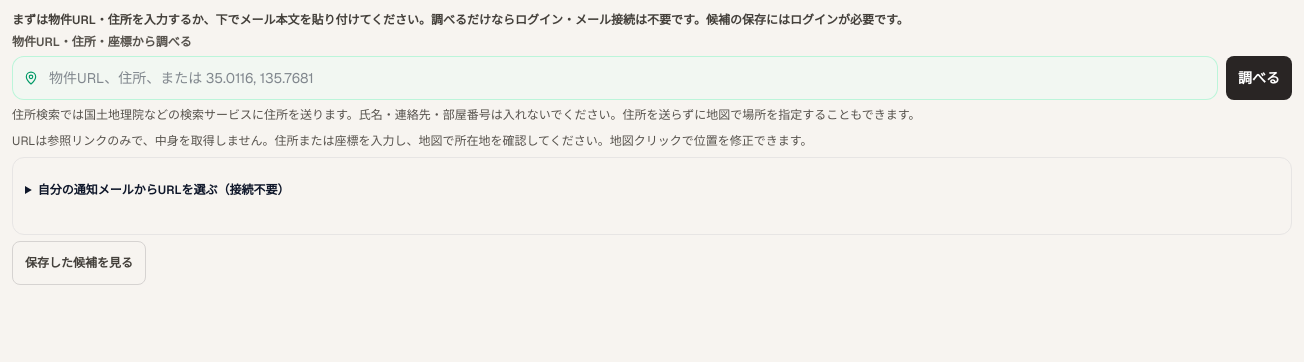
listing candidate flow › portal paste makes zero requests; asks for location and never persists draft
This screenshot has width=1304, height=362.
In the field labelled "物件URL・住所・座標から調べる": (615, 78) [12, 56, 1218, 100], type "https://suumo.jp/chintai/123/?utm_source=test"
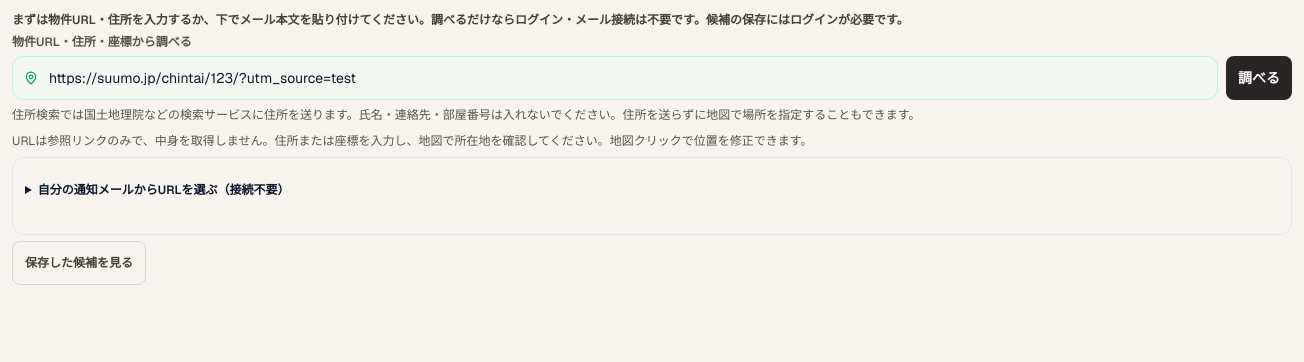
Click the button "調べる": click(1259, 78) [1226, 56, 1292, 100]
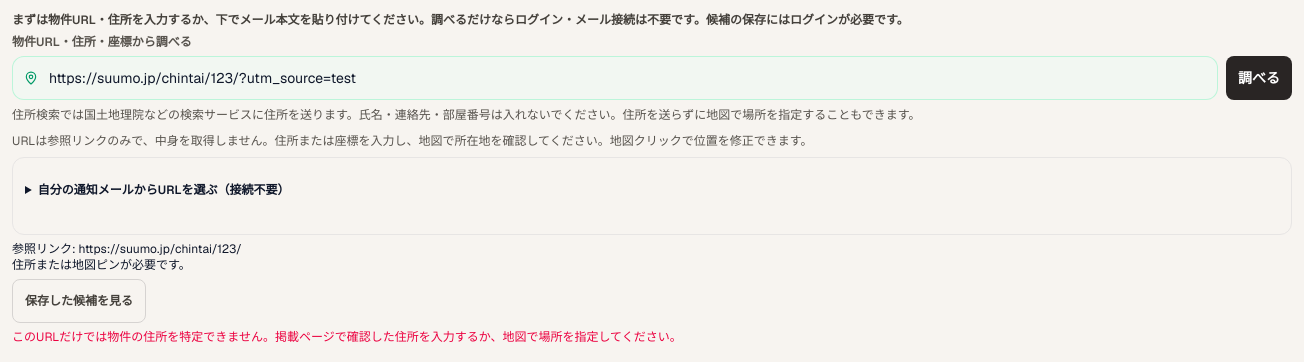
Result: the text "このURLだけでは物件の住所を特定できません。掲載ページで確認した住所を入力するか、地図で場所を指定してください。" is shown at [12, 329, 682, 345]
